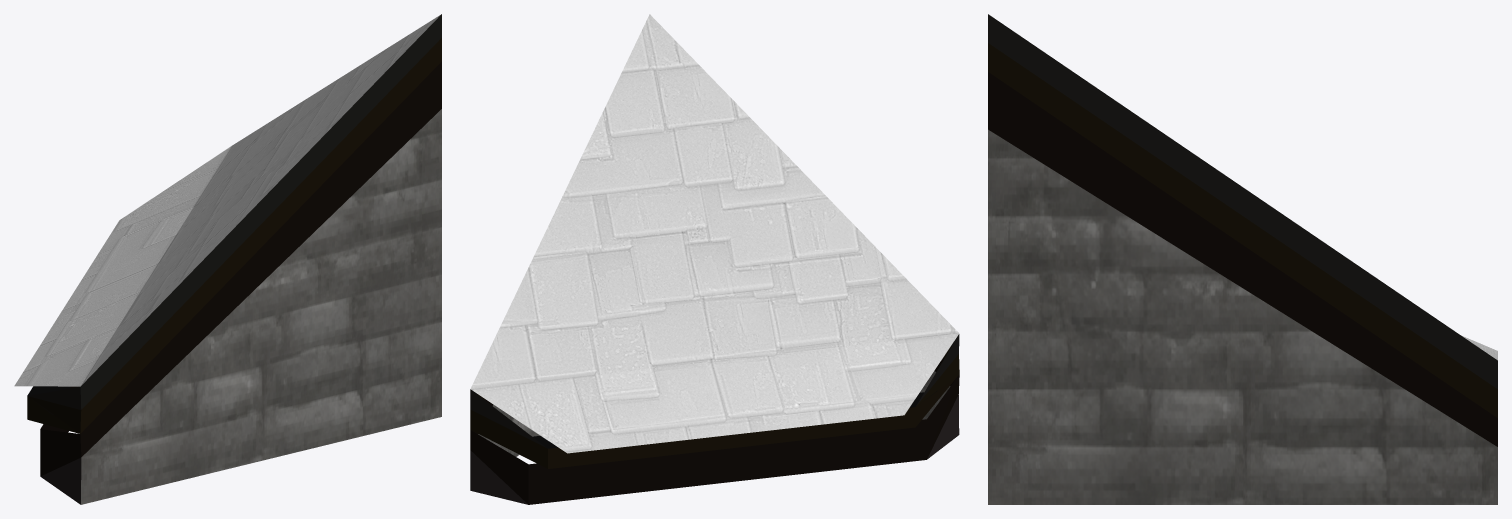
3 views of the same model, side by side, from view 1: azimuth 30°, elevation 25°; view 2: azimuth 150°, elevation 25°; view 3: azimuth 270°, elevation 25° (orthographic). The views are drawn at different scales.
Parts seen in each view (by area): view 1: 622; view 2: 622; view 3: 622.
Part boxes in pixels (<box>): 622: <box>14,14,441,504</box>; 622: <box>470,14,959,504</box>; 622: <box>988,14,1497,504</box>.
Bounding box in the file's own units: 1.28 × 1.36 × 1.28.
3 materials, 2 textured.
